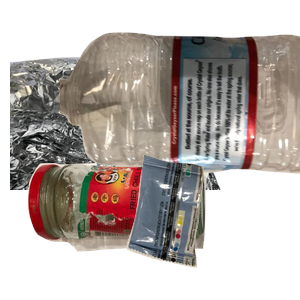glass: (25, 155, 227, 300)
metal: (10, 47, 250, 227)
plastic: (60, 30, 300, 196)
trash: (124, 152, 300, 300)
